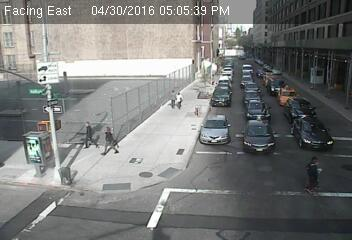neg: (321, 73, 339, 96), (299, 58, 313, 76), (262, 51, 274, 67), (282, 56, 292, 71)
pos: (300, 154, 331, 195), (99, 123, 122, 154), (77, 120, 98, 148), (165, 88, 179, 107), (174, 90, 186, 106)
